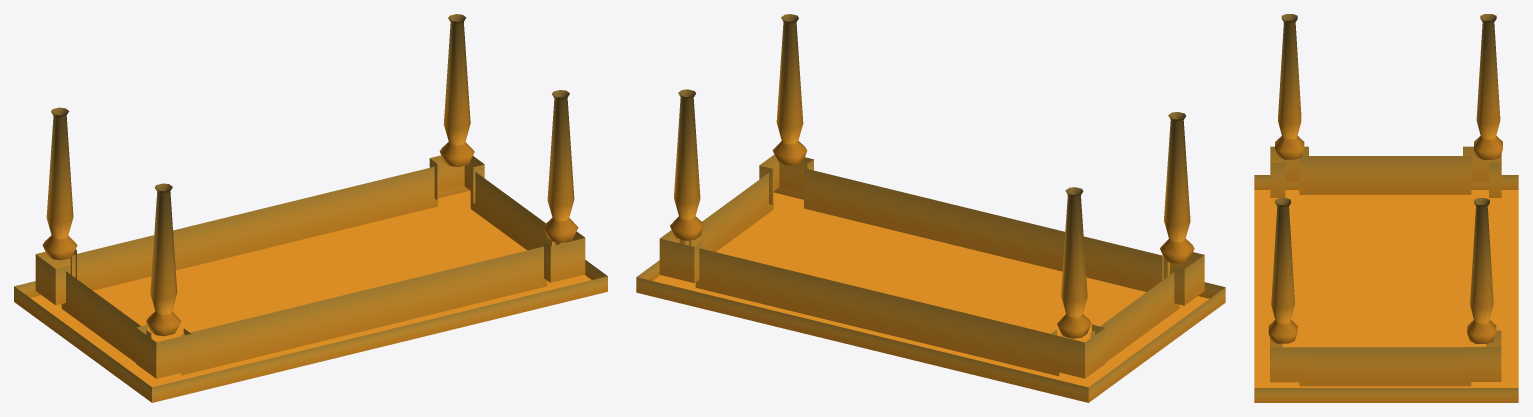
The model's file is Desk.FBX.
The picture shows the model from 3 angles, left to right: view 1: azimuth 30°, elevation 25°; view 2: azimuth 150°, elevation 25°; view 3: azimuth 270°, elevation 25°; orthographic projection. The views are drawn at different scales.
Parts seen in each view (by area): view 1: Box003; view 2: Box003; view 3: Box003.
Part boxes in pixels (x1,y1,x2,y2): Box003: [14, 14, 607, 402]; Box003: [636, 14, 1225, 402]; Box003: [1254, 14, 1518, 402].
Size of the model in its own units: 364 by 149 by 191.
